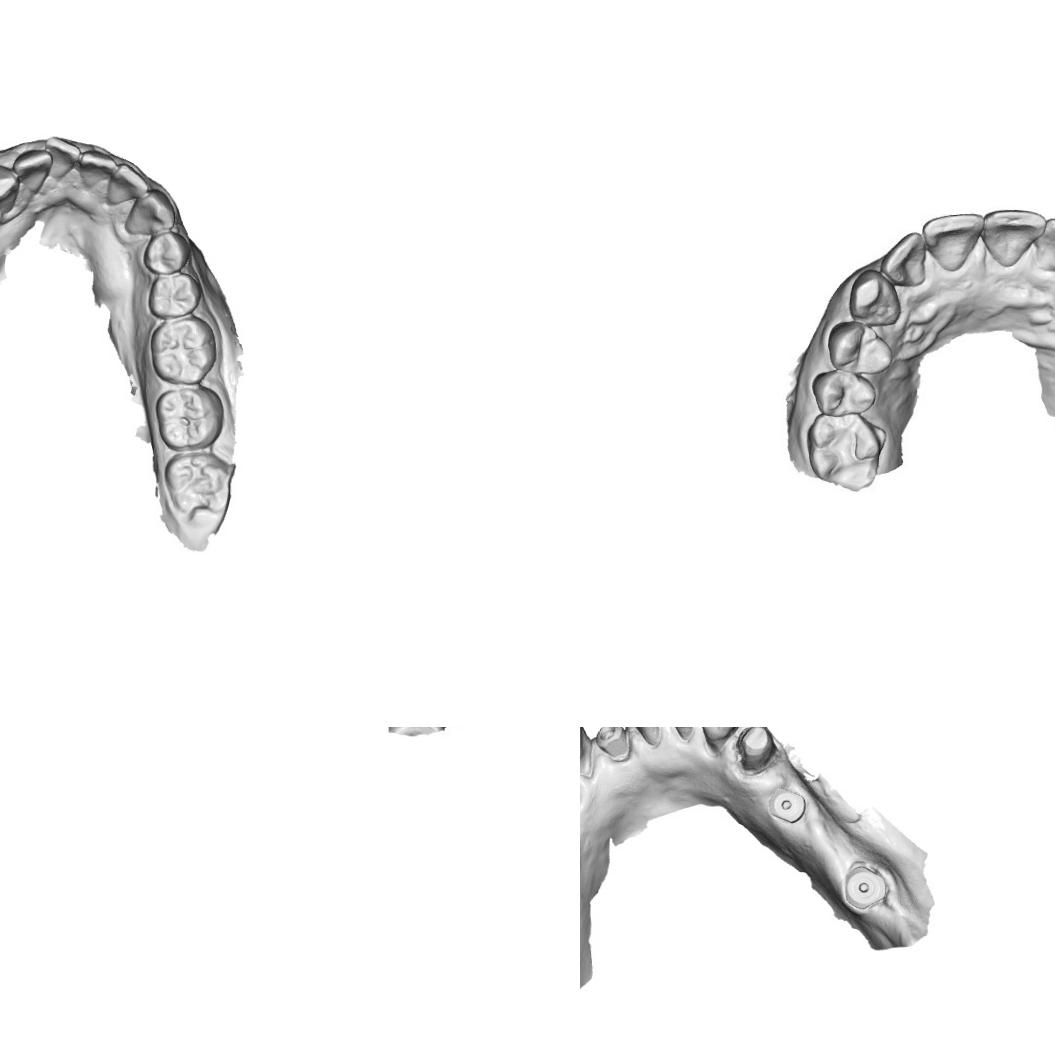canine: (845, 266, 903, 327), (122, 185, 178, 238), (0, 161, 18, 215), (695, 727, 748, 743)
crown: (741, 727, 780, 771)
implant: (844, 860, 890, 913), (769, 787, 808, 825), (591, 727, 631, 759)
incisor: (978, 204, 1048, 273), (921, 209, 985, 272), (880, 228, 931, 288), (105, 160, 151, 207), (11, 147, 54, 196), (43, 134, 81, 184), (76, 147, 117, 193), (1032, 215, 1055, 275)
molar: (801, 411, 884, 491), (161, 448, 234, 520), (148, 316, 220, 386), (153, 384, 224, 452)
premolar: (825, 321, 895, 376), (808, 367, 877, 417), (145, 272, 204, 321), (141, 229, 193, 275)
